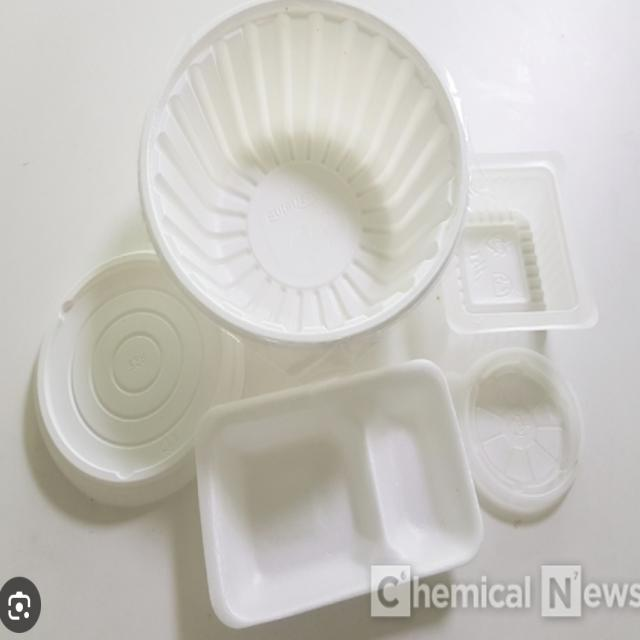recyclable: (132, 0, 481, 361), (189, 339, 491, 633), (26, 251, 254, 525), (451, 328, 596, 530)
